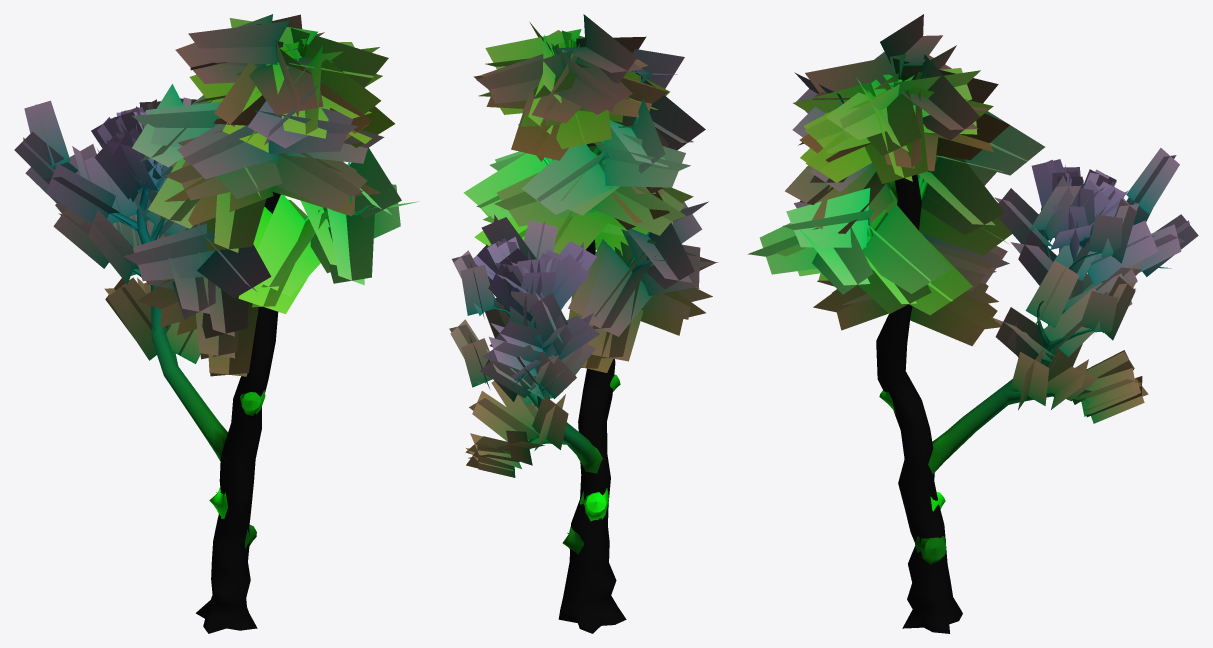
The model's file is M_Realistic7_6.fbx.
The picture shows the model from 3 angles, left to right: view 1: azimuth 30°, elevation 25°; view 2: azimuth 150°, elevation 25°; view 3: azimuth 270°, elevation 25°; orthographic projection. The views are drawn at different scales.
Parts seen in each view (by area): view 1: Tree_6; view 2: Tree_6; view 3: Tree_6.
Part boxes in pixels (x1,y1,x2,y2): Tree_6: (14,14,419,633); Tree_6: (449,14,718,633); Tree_6: (747,14,1198,633).
Bounding box in the file's own units: 1038 × 2380 × 1633.
